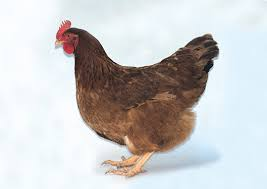chicken: (37, 9, 231, 186)
